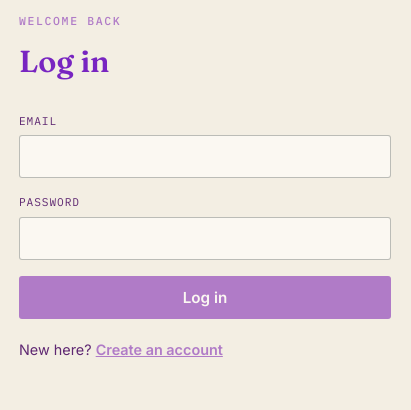
it: Login page › shows the backend's specific error message on wrong credentials, not a generic one
Type "guest@stayease.com" into the field labelled "Email" at [205, 157], box [19,135,391,178]
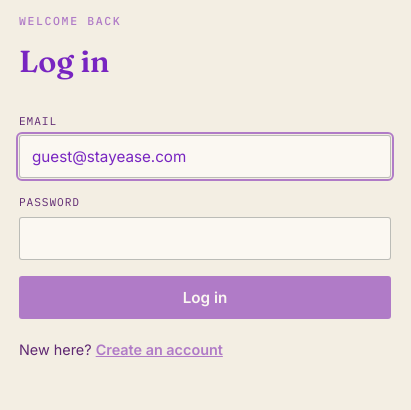
Type "wrongpassword" into the password field labelled "Password" at [205, 239], box [19,217,391,260]
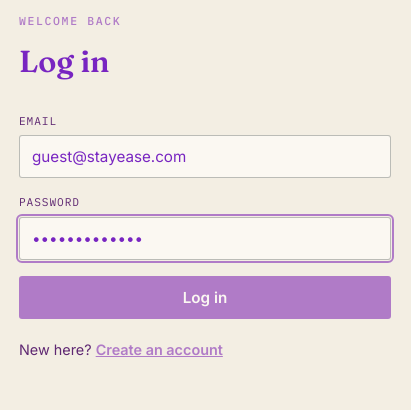
Click the button "Log in" at [205, 298], box [19,276,391,319]
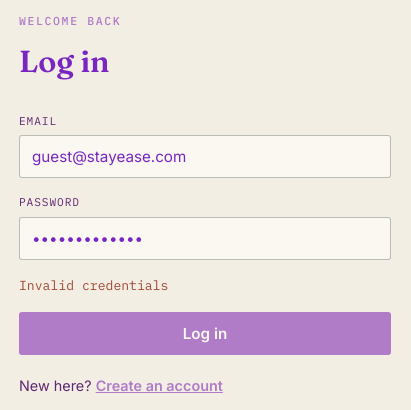
Now the text "Invalid credentials" is shown, box [19,277,168,294]
